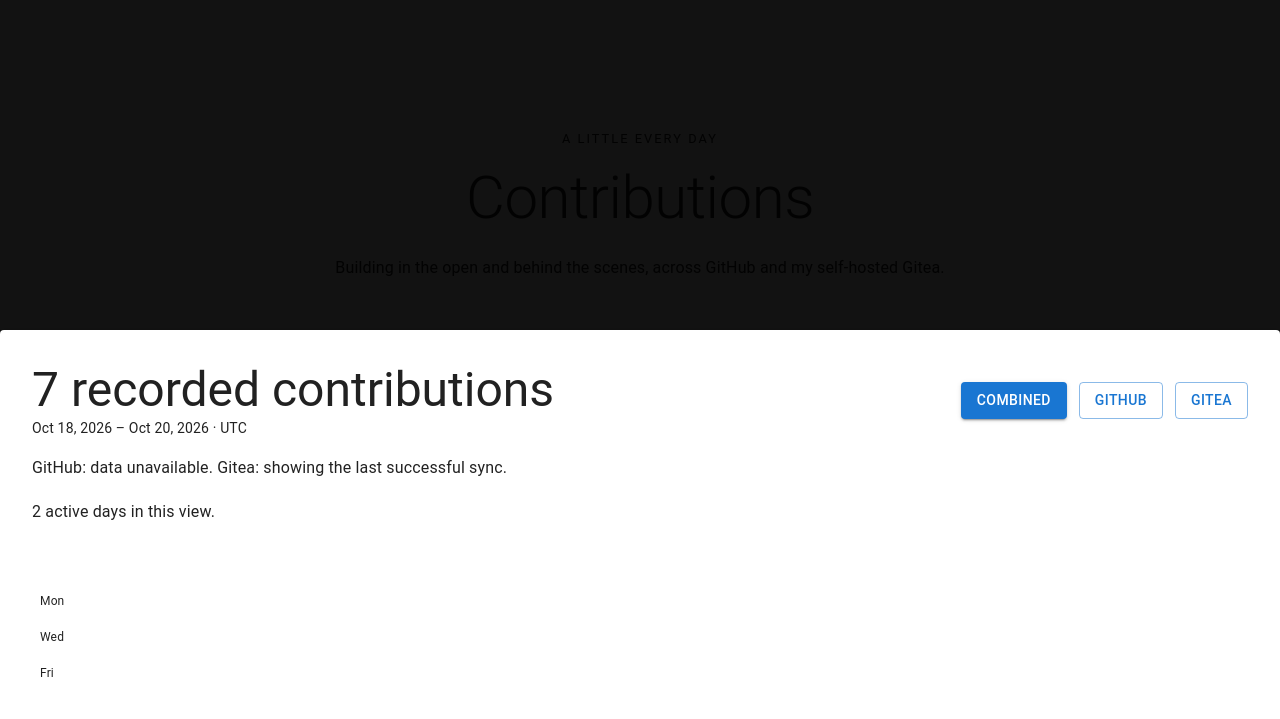
contribution section › shows partial failures honestly and preserves the last successful counts
The image size is (1280, 719).
expect the heading "7 recorded contributions" is shown: met, box [32,362,554,418]
expect the text "GitHub: data unavailable. Gitea: showing the last successful sync." is shown: met, box [32,458,507,477]
Step 1. Click the button "GitHub" → (1121, 400), box [1079,382,1163,419]
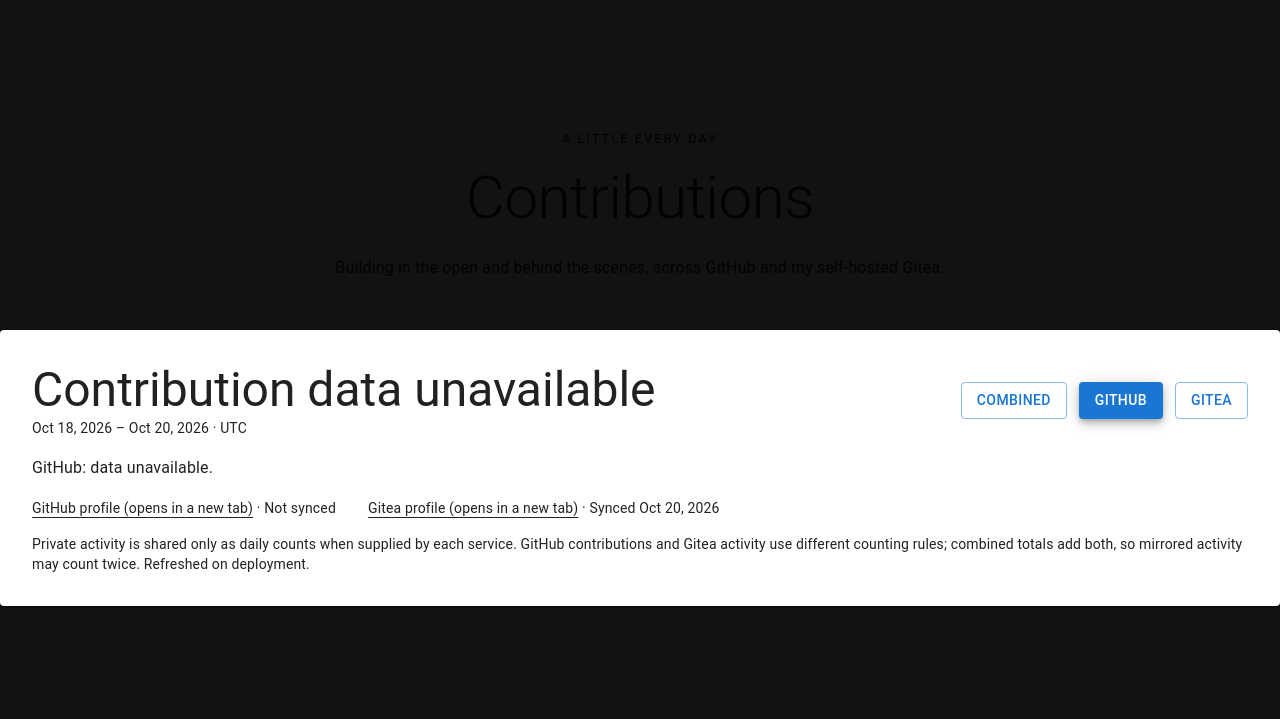
expect the text "GitHub profile (opens in a new tab) · Not synced" is shown: met, box [32,498,336,518]
expect the heading "Contribution data unavailable" is shown: met, box [32,362,656,418]
